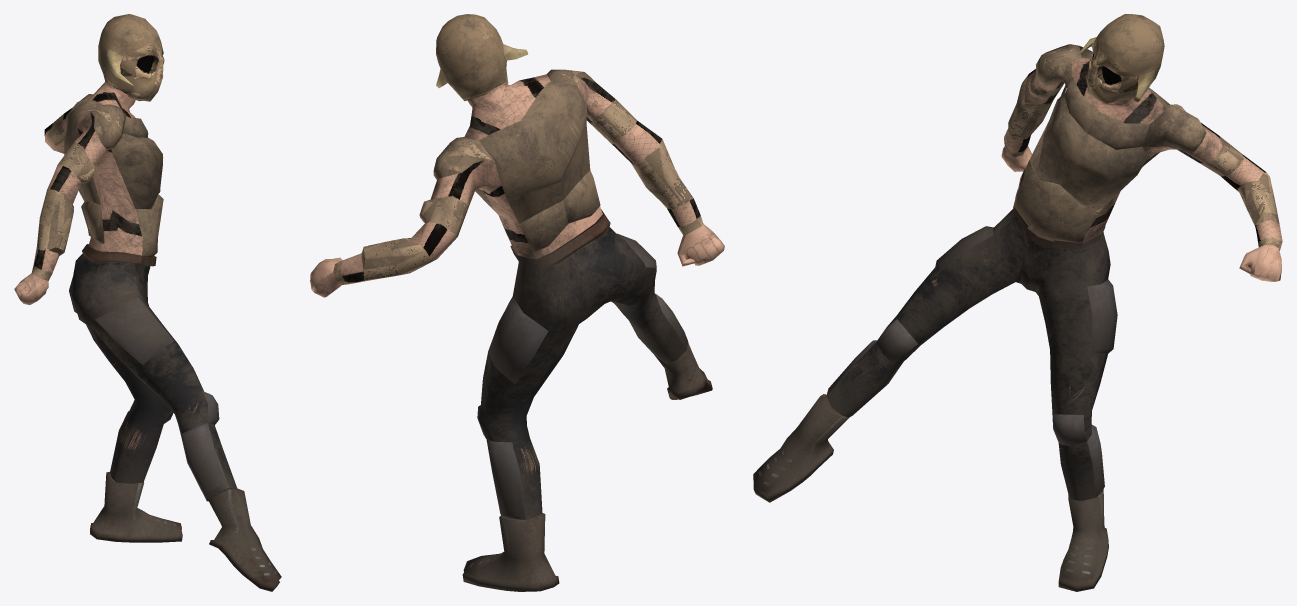
File: Anim_ataque_f2_npc1.0022.obj
3 renders of one model, left to right at view 1: azimuth 30°, elevation 25°; view 2: azimuth 150°, elevation 25°; view 3: azimuth 270°, elevation 25°, orthographic. The views are drawn at different scales.
Visible parts, largest first — view 1: NPC2; view 2: NPC2; view 3: NPC2.
Boxes of the visible parts, left/top/right/bottom form: NPC2: left=14, top=14, right=281, bottom=591; NPC2: left=310, top=14, right=724, bottom=591; NPC2: left=753, top=14, right=1282, bottom=591.
Size of the model in its own units: 4.59 by 9.22 by 7.89.
